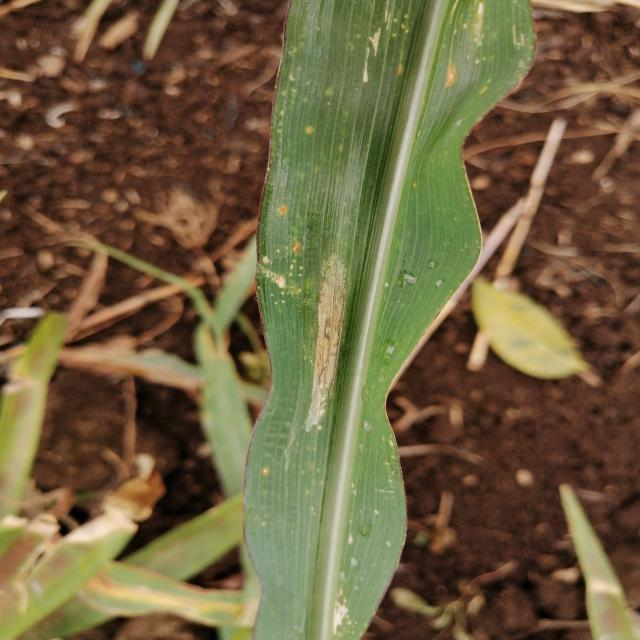Corn_Leaf_Blight: (259, 9, 524, 629)
